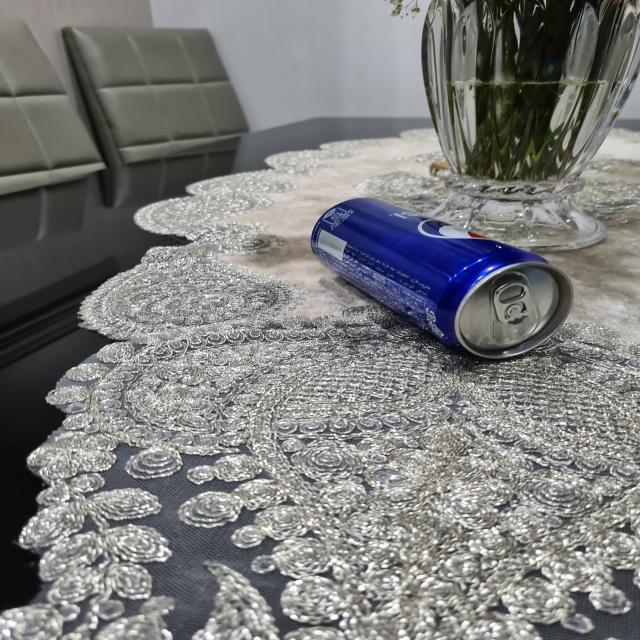non-organic waste: (295, 197, 574, 369)
